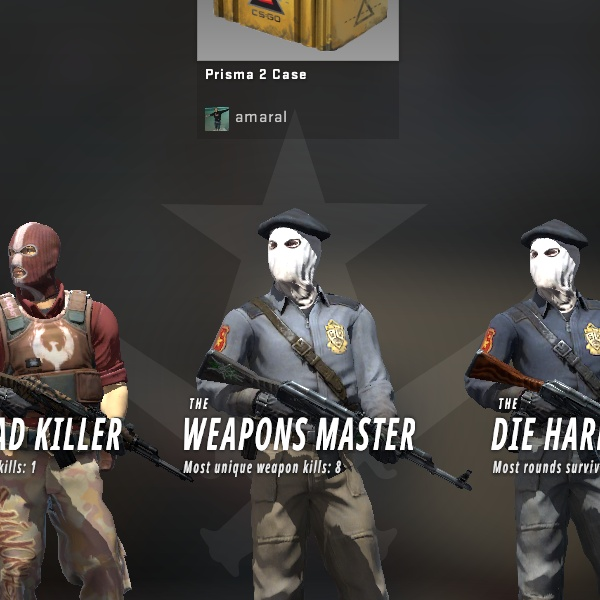t_body: (0, 197, 171, 600)
t_head: (0, 207, 92, 319)
